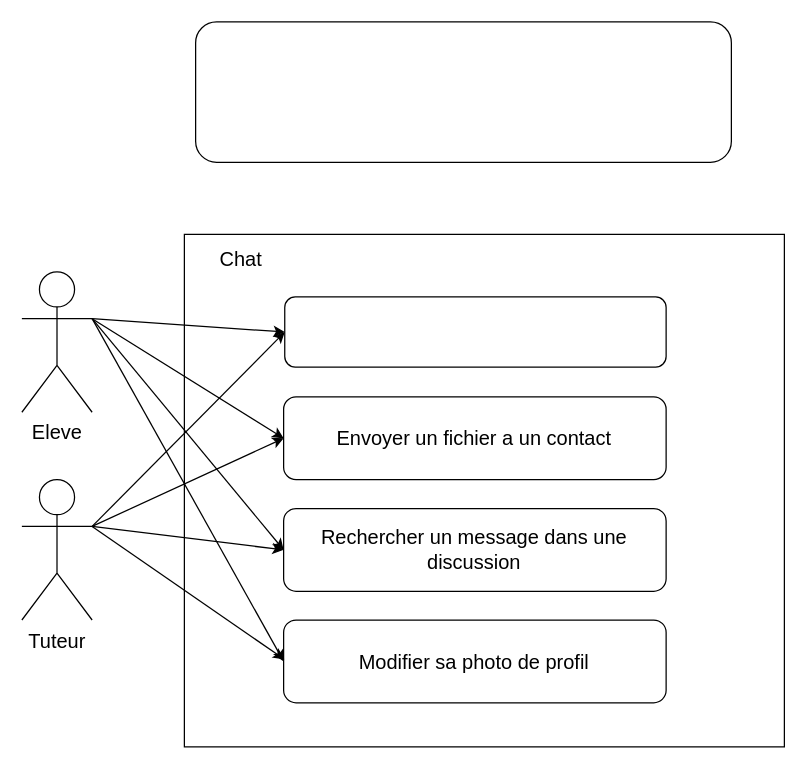
The diagram is 806 pixels wide and 769 high, and some of its shapes have lost their labels. Each missing label, with the centre of its shape:
"Envoyer un message a un contact" belongs at point (475, 331).
"Page de chat" belongs at point (462, 91).
